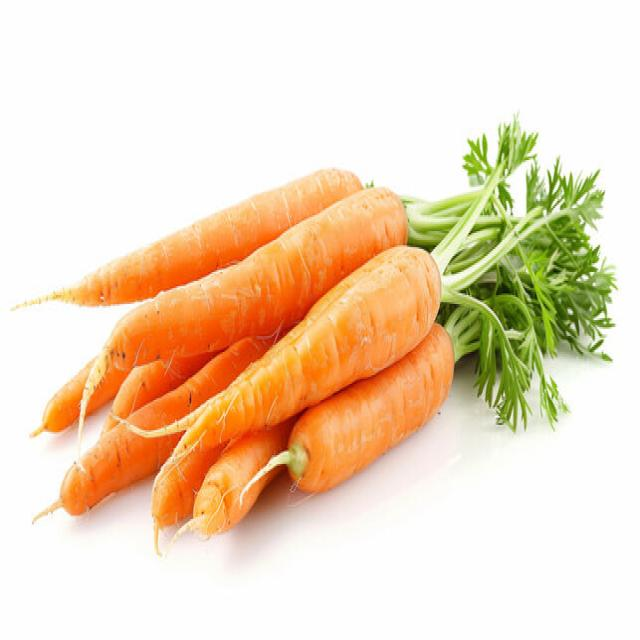Carrot: (149, 242, 442, 538), (73, 183, 408, 439), (9, 164, 365, 311), (228, 320, 455, 530), (31, 332, 276, 524), (100, 331, 274, 437), (160, 420, 291, 554), (28, 348, 182, 438), (100, 348, 204, 436)
